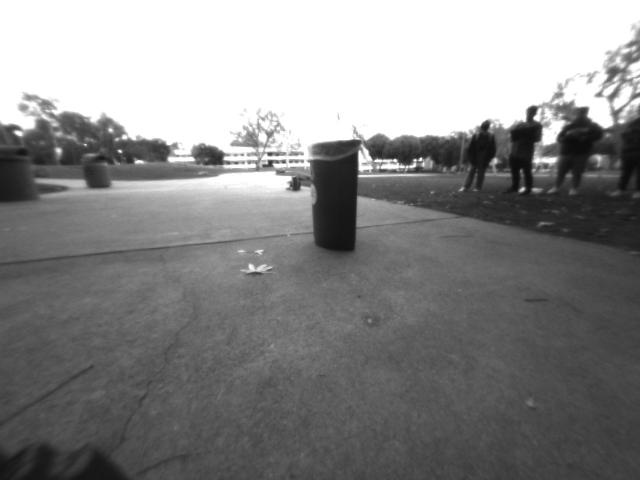trashcan_open: (306, 136, 363, 255)
